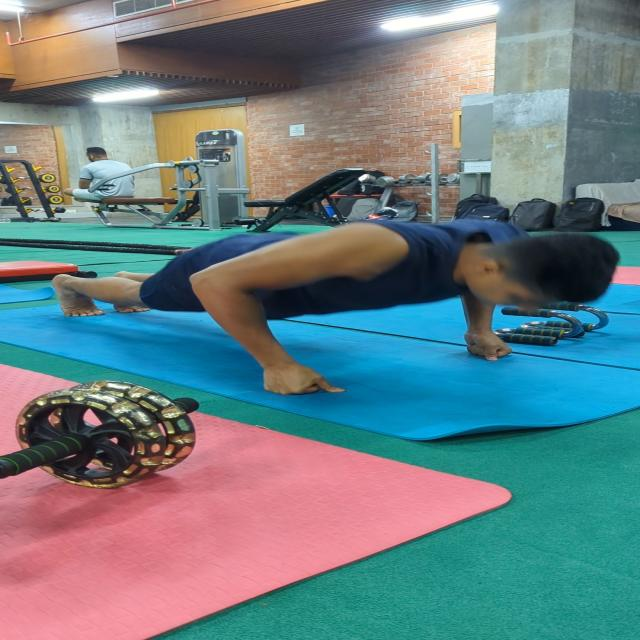Normal_PushUps: (48, 215, 626, 402)
